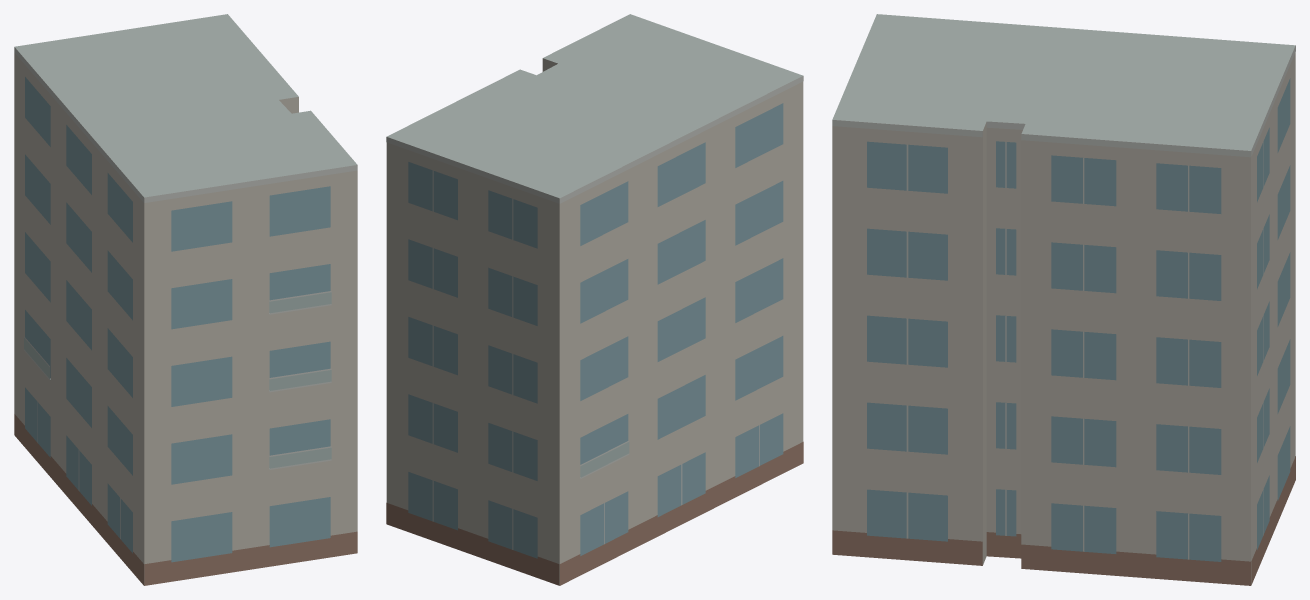
File: survey-upis-32966731.glb
3 renders of one model, left to right at view 1: azimuth 30°, elevation 25°; view 2: azimuth 150°, elevation 25°; view 3: azimuth 270°, elevation 25°, orthographic. The views are drawn at different scales.
Visible parts, largest first — view 1: survey-upis-32966731.tmp; view 2: survey-upis-32966731.tmp; view 3: survey-upis-32966731.tmp.
Boxes of the visible parts, x1=… form: survey-upis-32966731.tmp: x1=14, y1=14, x2=357, y2=585; survey-upis-32966731.tmp: x1=386, y1=14, x2=803, y2=585; survey-upis-32966731.tmp: x1=832, y1=14, x2=1295, y2=585.
Bounding box in the file's own units: 11.43 × 16.9 × 16.33.
